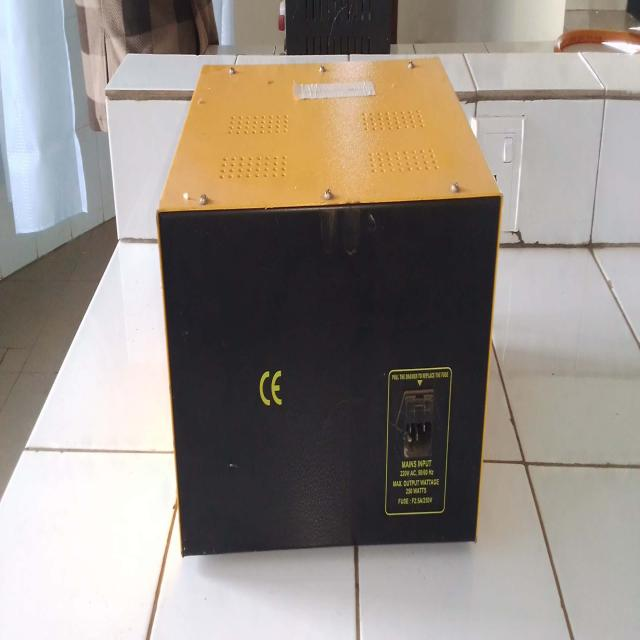Digital Power Supply: (145, 47, 501, 562)
